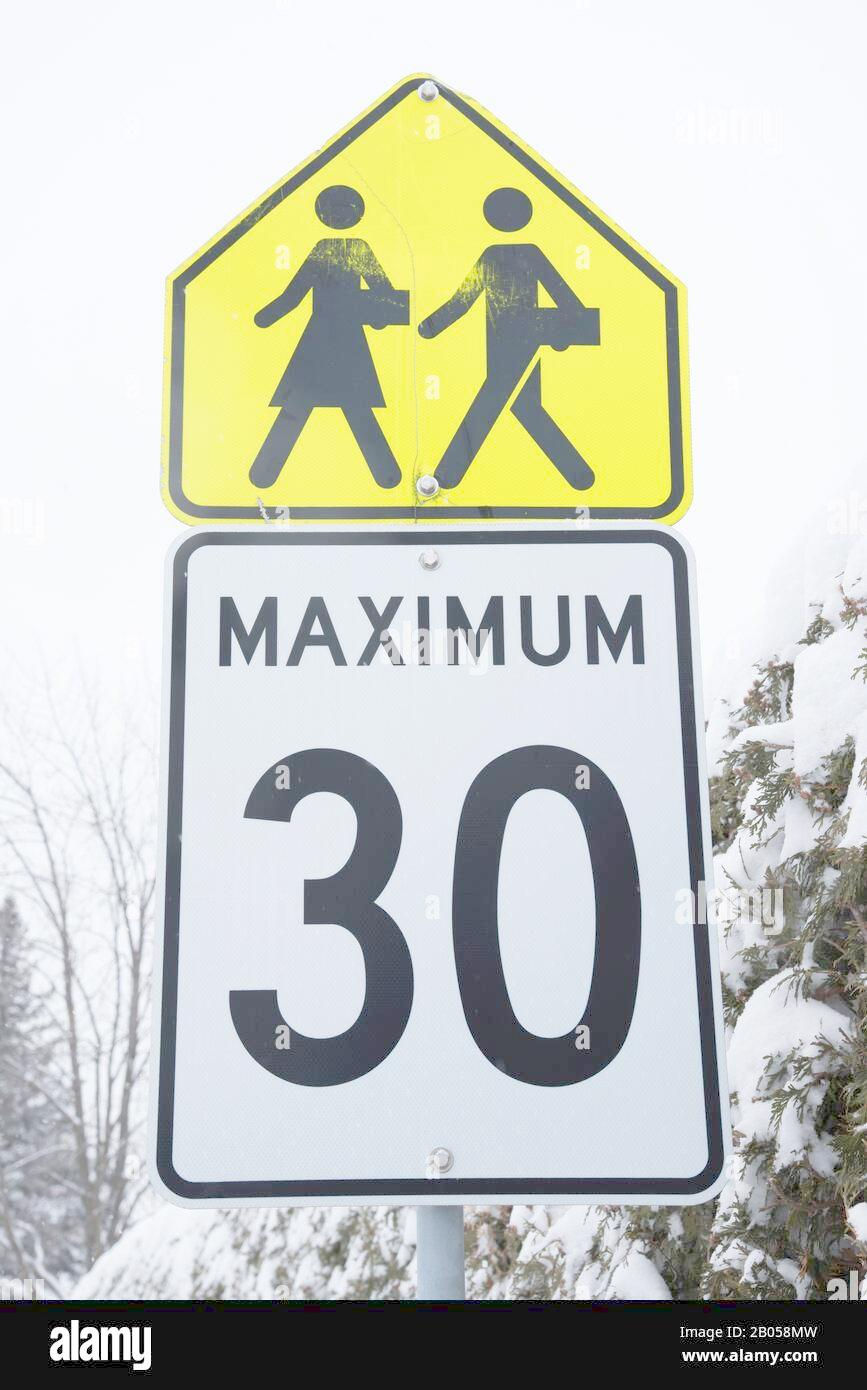speed limit sign: (155, 527, 740, 1215)
